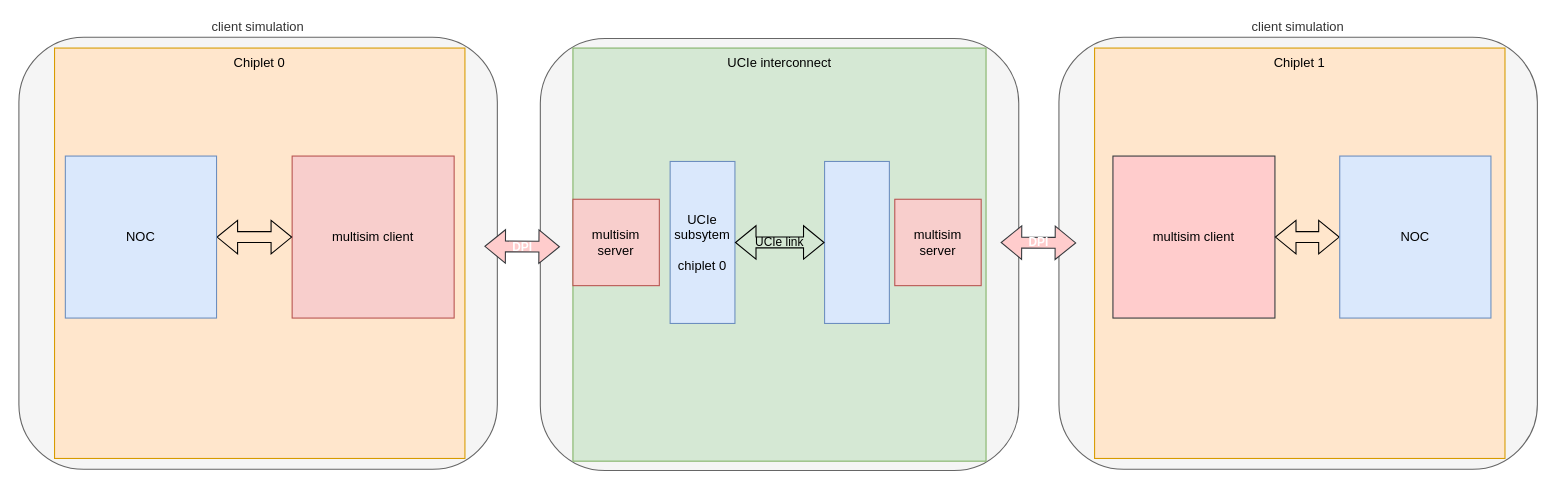
Image size: 1556x489. Some labels were removed from this diagram. Each missing label, with the box of its shape:
server simulation: (539, 37, 1019, 471)
UCIe subsytem chiplet 1: (824, 160, 889, 323)
